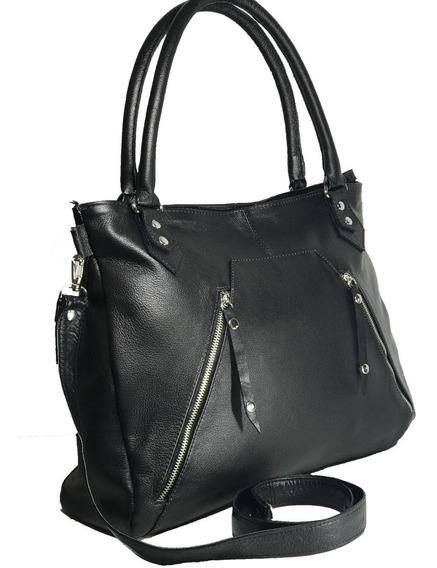cartera: (53, 1, 416, 541)
